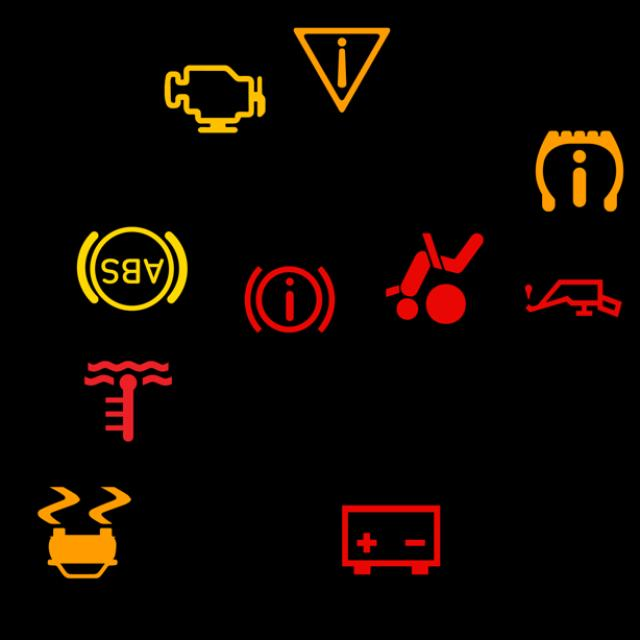Anti Lock Braking System: (72, 208, 193, 329)
Braking System Issue: (230, 238, 350, 359)
Charging System Issue: (331, 480, 452, 600)
Check Engine: (154, 39, 275, 160)
Electronic Stability Problem -ESP-: (24, 472, 145, 593)
Engine Overheating Warning Light: (68, 341, 188, 462)
Low Engine Oil Warning Light: (513, 238, 634, 358)
Low Tire Pressure Warning Light: (519, 110, 640, 232)
Master warning light: (282, 10, 402, 130)
SRS-Airbag: (374, 218, 495, 339)
